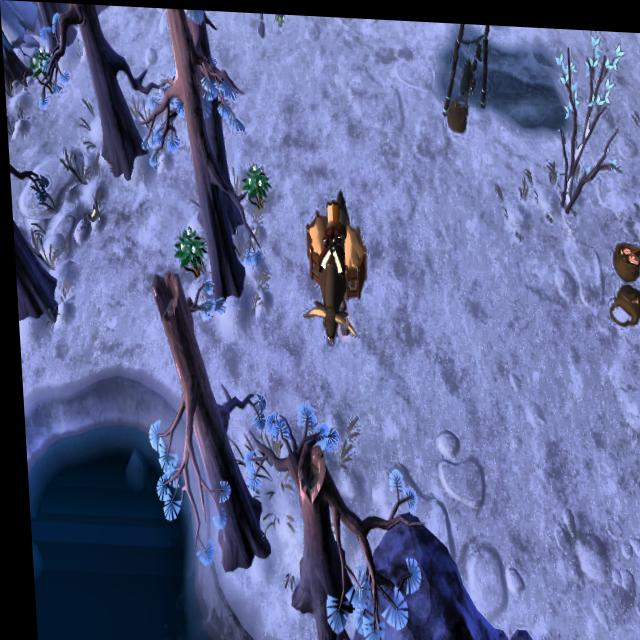fiber_t3: (168, 217, 203, 281), (236, 160, 270, 207), (24, 41, 54, 84)
